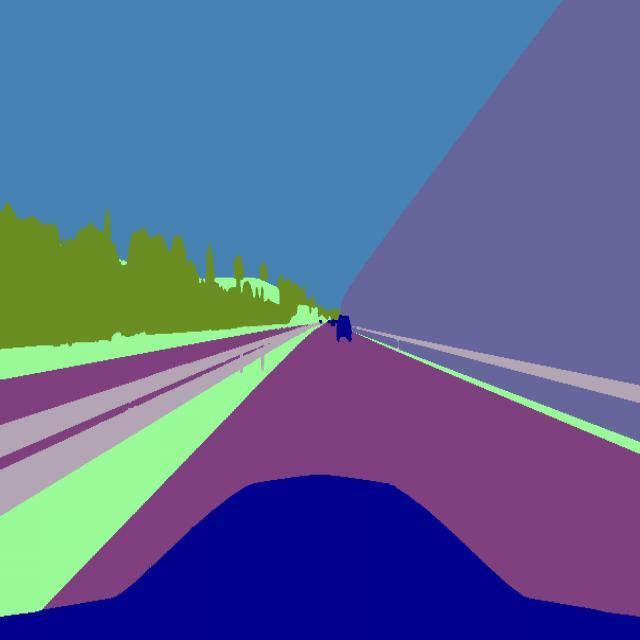safe: (332, 310, 356, 346)
